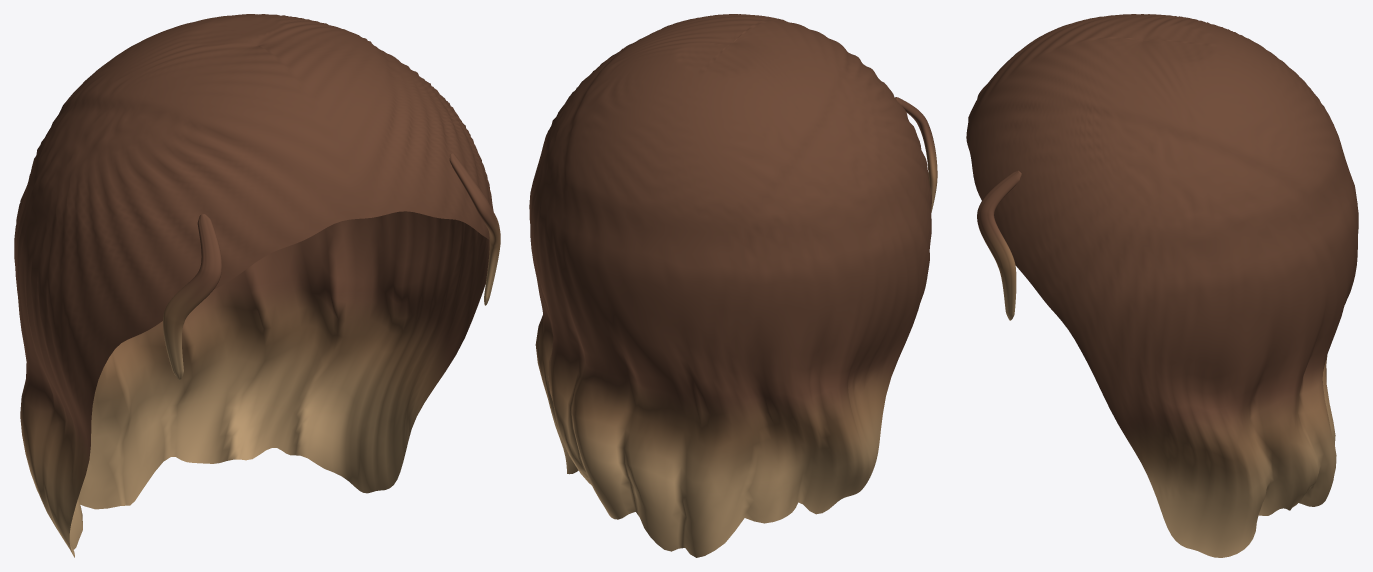
Rendered from space-buns-bucket-ombre.glb.
3 views of the same model, side by side, from view 1: azimuth 30°, elevation 25°; view 2: azimuth 150°, elevation 25°; view 3: azimuth 270°, elevation 25° (orthographic). The views are drawn at different scales.
Parts seen in each view (by area): view 1: 226 hair / Hair / chestnut226.002; view 2: 226 hair / Hair / chestnut226.002; view 3: 226 hair / Hair / chestnut226.002.
Boxes of the visible parts, box(x1,y1,x2,y2) form: 226 hair / Hair / chestnut226.002: box(14, 14, 500, 557); 226 hair / Hair / chestnut226.002: box(529, 14, 937, 557); 226 hair / Hair / chestnut226.002: box(966, 14, 1358, 557).
Bounding box in the file's own units: 0.8048 × 0.965 × 0.7316.
Materials: 1 (1 with a texture image).
